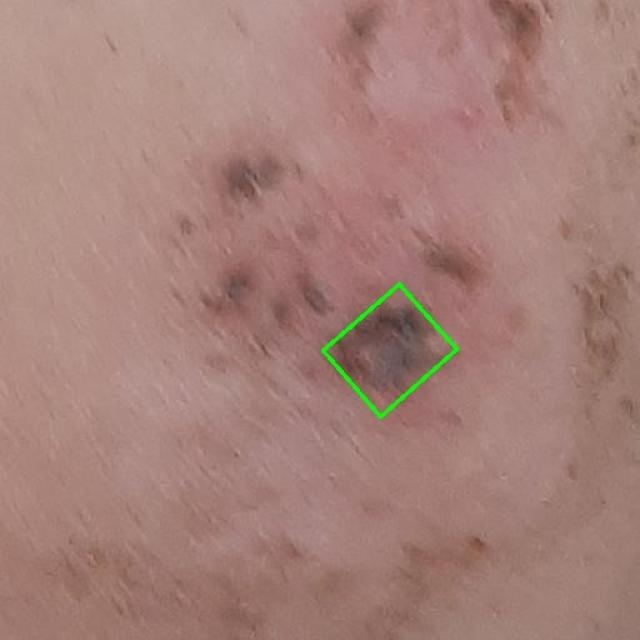Contact Dermatitis: (323, 284, 457, 417)
